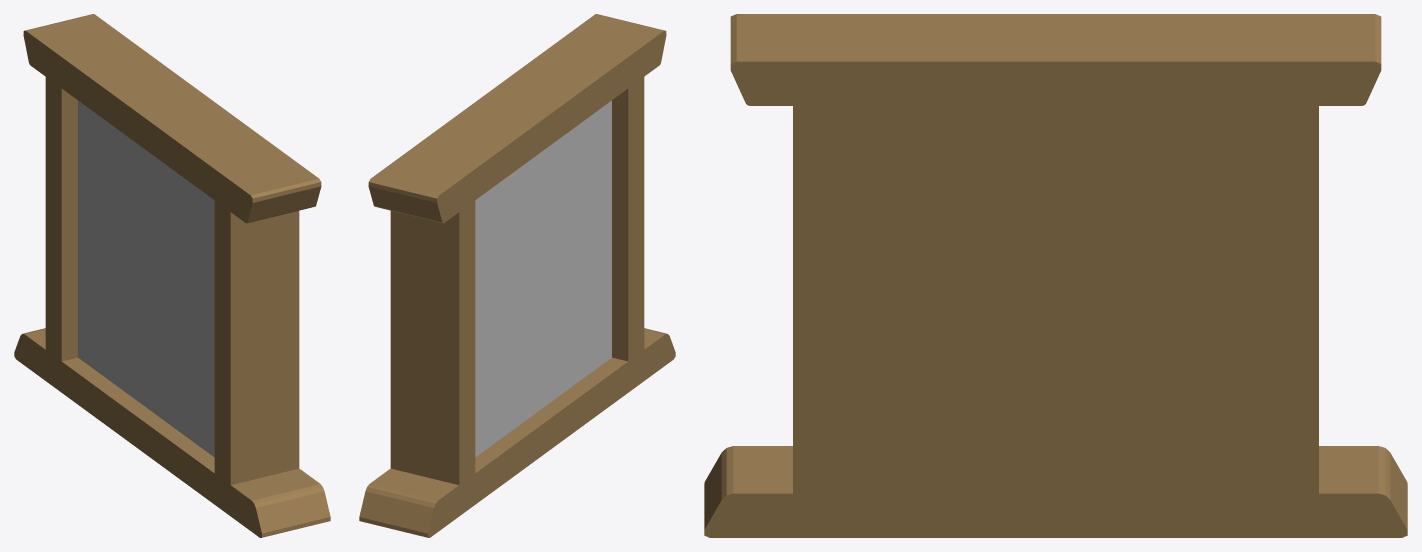
Rendered from Frame.fbx.
The picture shows the model from 3 angles, left to right: view 1: azimuth 30°, elevation 25°; view 2: azimuth 150°, elevation 25°; view 3: azimuth 270°, elevation 25°; orthographic projection. The views are drawn at different scales.
Visible parts, largest first — view 1: Cube.006; view 2: Cube.006; view 3: Cube.006.
Part boxes in pixels (bbox=[...]): Cube.006: bbox=[14, 14, 330, 537]; Cube.006: bbox=[359, 14, 675, 537]; Cube.006: bbox=[704, 14, 1407, 537].
Bounding box in the file's own units: 2.14 × 10 × 13.38.
